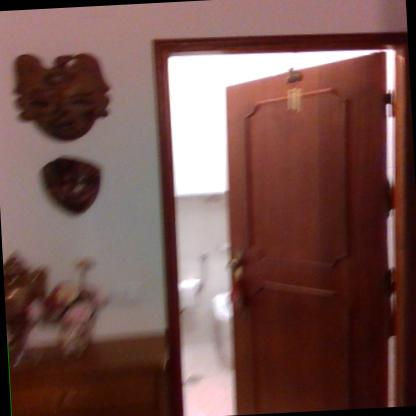semi: (140, 17, 416, 416)
